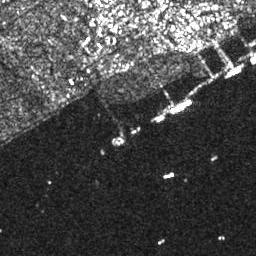ship: (168, 99, 193, 113), (224, 63, 244, 78), (162, 172, 175, 179), (131, 126, 141, 135), (156, 116, 165, 122), (158, 238, 165, 245), (210, 155, 218, 161)
